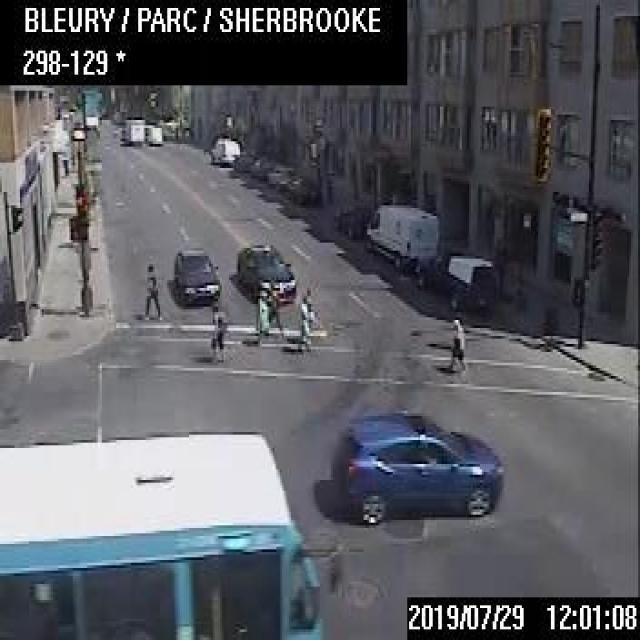bus: (0, 431, 316, 637)
pedestrian: (446, 317, 468, 371), (142, 261, 161, 320), (208, 300, 225, 363), (297, 293, 313, 350), (268, 281, 284, 336), (254, 287, 268, 349)
vehicle: (329, 405, 502, 523), (363, 202, 437, 269), (415, 252, 500, 308), (236, 242, 296, 301), (173, 247, 220, 304), (333, 204, 373, 239), (286, 174, 319, 203), (208, 136, 239, 164), (265, 162, 293, 188), (248, 154, 274, 177), (122, 116, 143, 144), (231, 150, 253, 170), (144, 122, 162, 144)
